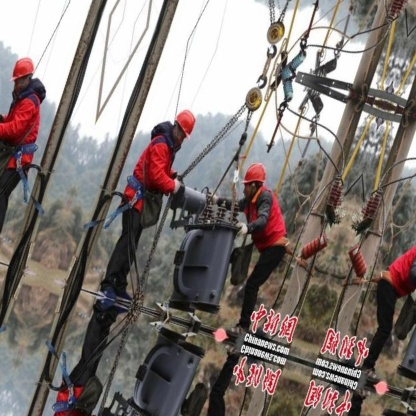red: (237, 155, 272, 193), (168, 103, 201, 141)
